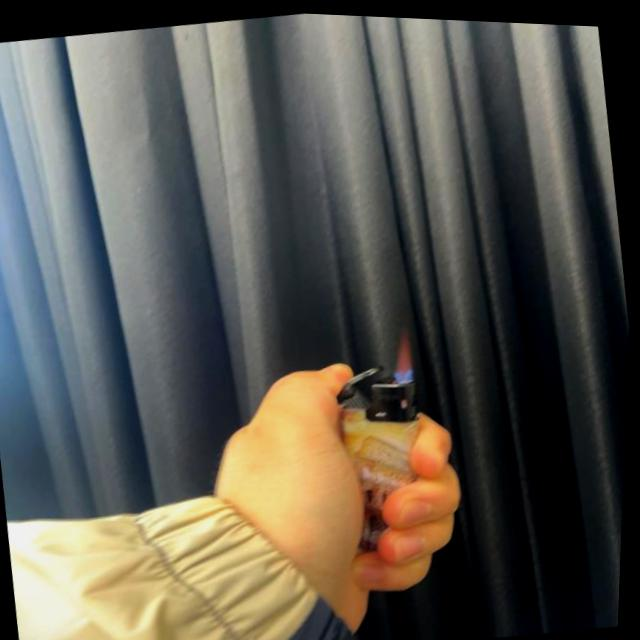Fire: (387, 324, 422, 380)
